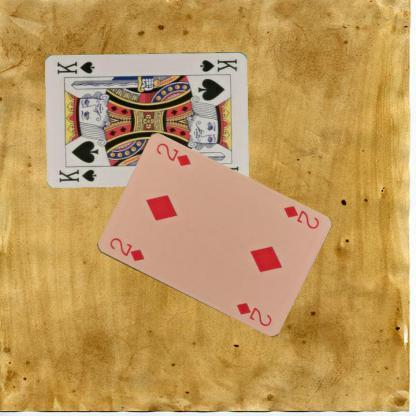2d: (280, 202, 321, 230), (106, 235, 146, 263)
Ks: (57, 166, 98, 184), (197, 56, 239, 73)
